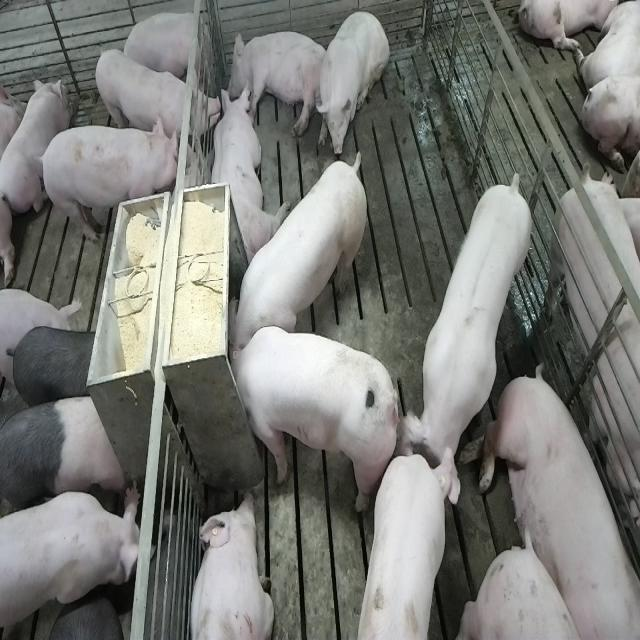Feeding: (220, 326, 394, 514), (230, 144, 372, 356)
Lateral_lying: (478, 365, 636, 640), (227, 29, 331, 139)
Sitting: (314, 8, 389, 158)
Standing: (402, 162, 536, 496), (540, 171, 640, 593), (2, 485, 142, 640), (352, 454, 456, 640), (36, 121, 180, 248), (2, 392, 128, 524), (6, 324, 104, 412)
Sternal_lying: (208, 85, 283, 266), (186, 490, 274, 640), (2, 74, 68, 220)
